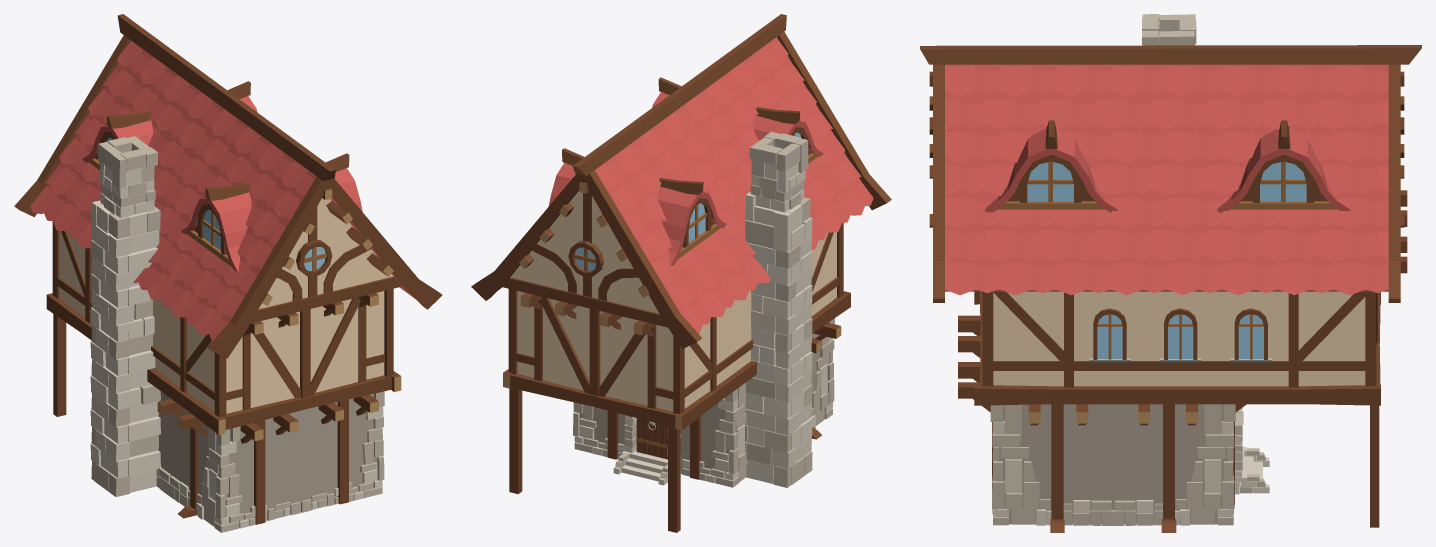
Rendered from cottage-b-cream.glb.
3 renders of one model, left to right at view 1: azimuth 30°, elevation 25°; view 2: azimuth 150°, elevation 25°; view 3: azimuth 270°, elevation 25°, orthographic. The views are drawn at different scales.
Parts seen in each view (by area): view 1: House_2; view 2: House_2; view 3: House_2.
Boxes of the visible parts, <box> form: House_2: <box>14,14,442,532</box>; House_2: <box>471,14,891,532</box>; House_2: <box>920,14,1421,532</box>.
Size of the model in its own units: 2.22 by 3.25 by 3.42.
